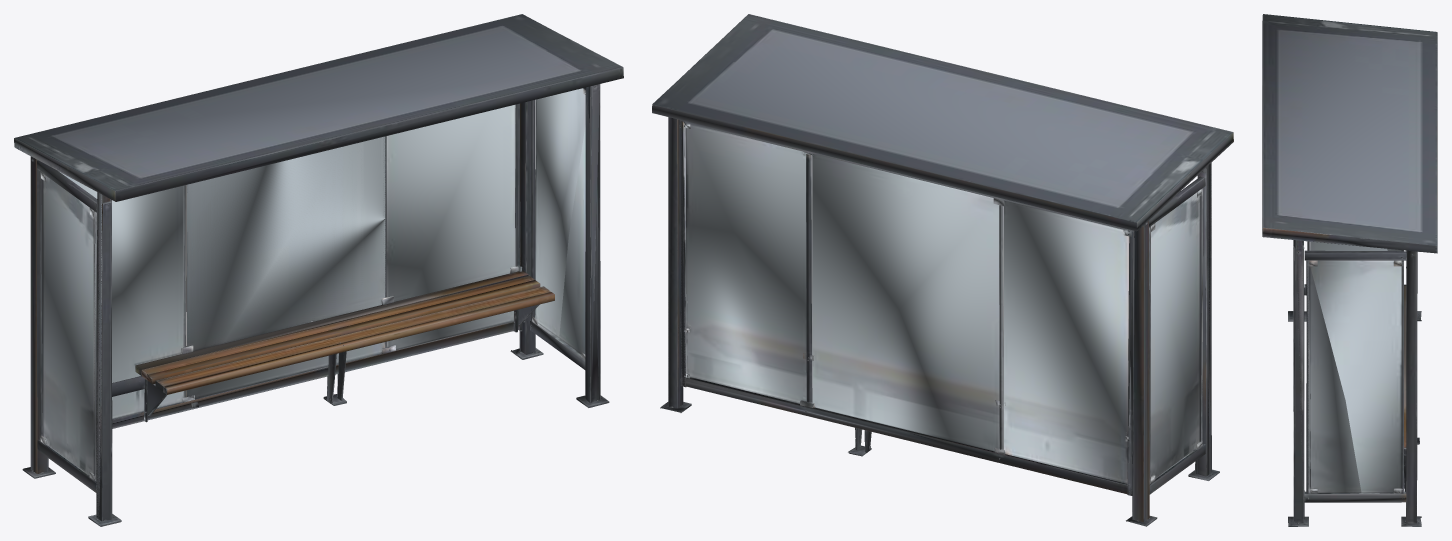
The model's file is bus_stop.glb.
The picture shows the model from 3 angles, left to right: view 1: azimuth 30°, elevation 25°; view 2: azimuth 150°, elevation 25°; view 3: azimuth 270°, elevation 25°; orthographic projection. The views are drawn at different scales.
Bounding box in the file's own units: 0.9507 × 0.6186 × 0.3286.
1 material, 1 textured.
